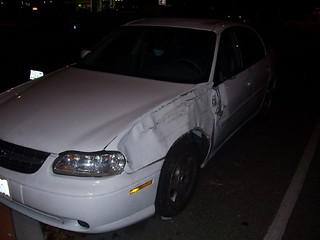fender-dent: (156, 89, 216, 146)
